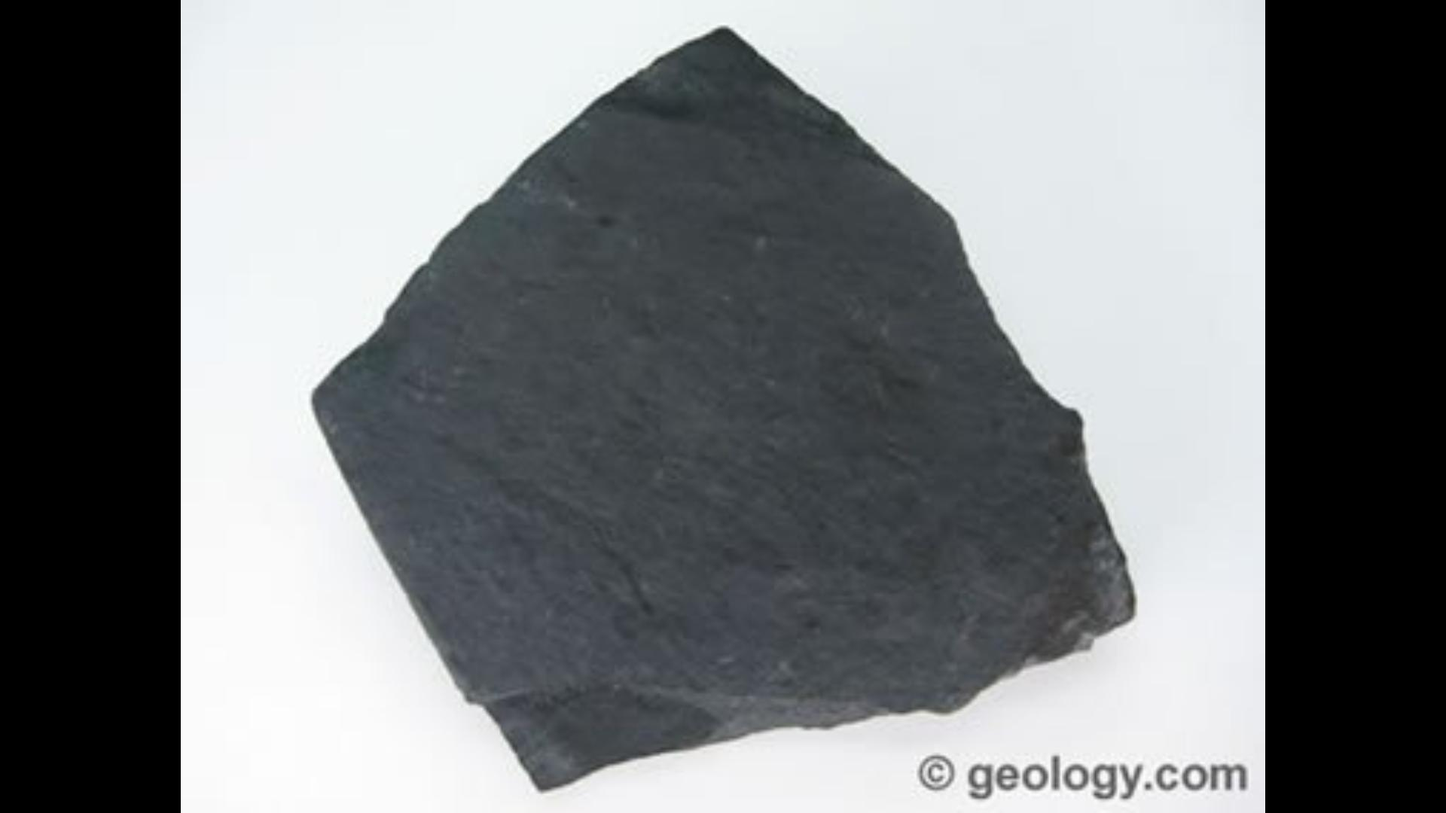rock: (318, 29, 1131, 784)
